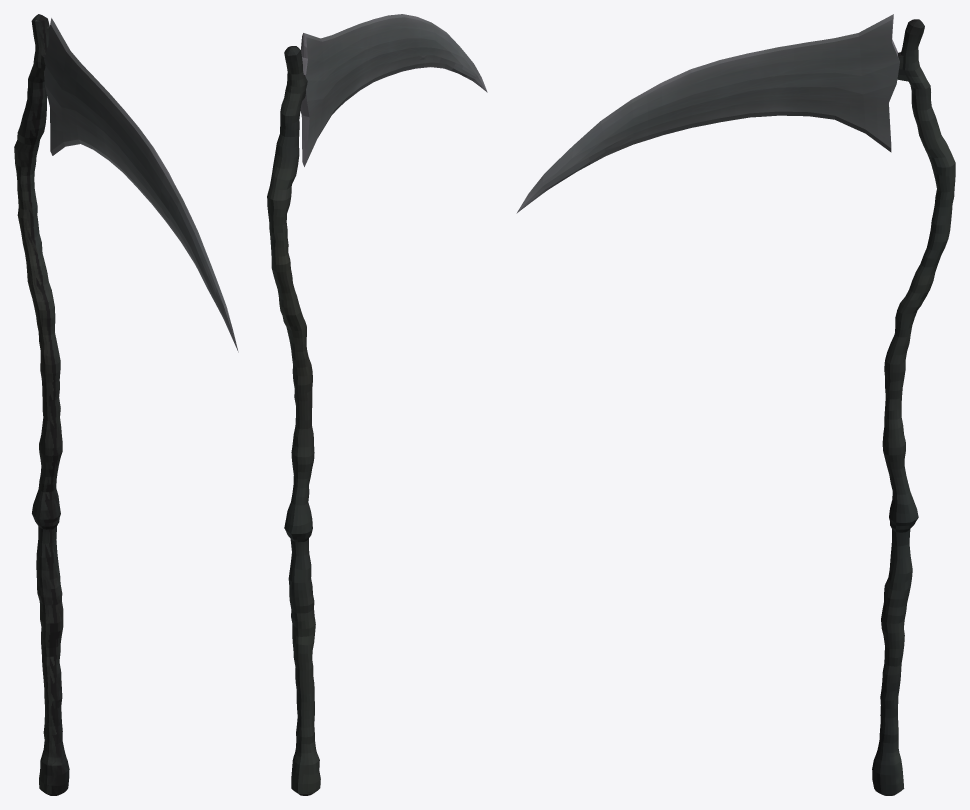
The model's file is church_scythe.obj.
3 renders of one model, left to right at view 1: azimuth 30°, elevation 25°; view 2: azimuth 150°, elevation 25°; view 3: azimuth 270°, elevation 25°, orthographic. The views are drawn at different scales.
Parts seen in each view (by area): view 1: Cylinder_Cylinder.001, Circle; view 2: Cylinder_Cylinder.001, Circle; view 3: Circle, Cylinder_Cylinder.001.
Part boxes in pixels (x1,y1,x2,y2): Cylinder_Cylinder.001: (14, 14, 69, 795); Circle: (44, 18, 238, 352); Cylinder_Cylinder.001: (267, 46, 320, 795); Circle: (300, 14, 487, 166); Circle: (516, 14, 899, 213); Cylinder_Cylinder.001: (872, 19, 955, 795).
Size of the model in its own units: 0.1908 by 5.84 by 2.97.
